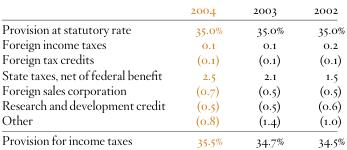table: (1, 0, 344, 147)
table column: (1, 0, 177, 147), (236, 0, 297, 147), (177, 0, 236, 147), (297, 0, 344, 147)
table column header: (1, 0, 344, 18)
table row: (1, 0, 344, 18), (1, 129, 344, 147), (1, 18, 344, 35), (1, 112, 344, 129), (1, 35, 344, 51), (1, 81, 344, 97), (1, 51, 344, 66), (1, 66, 344, 81), (1, 97, 344, 112)
